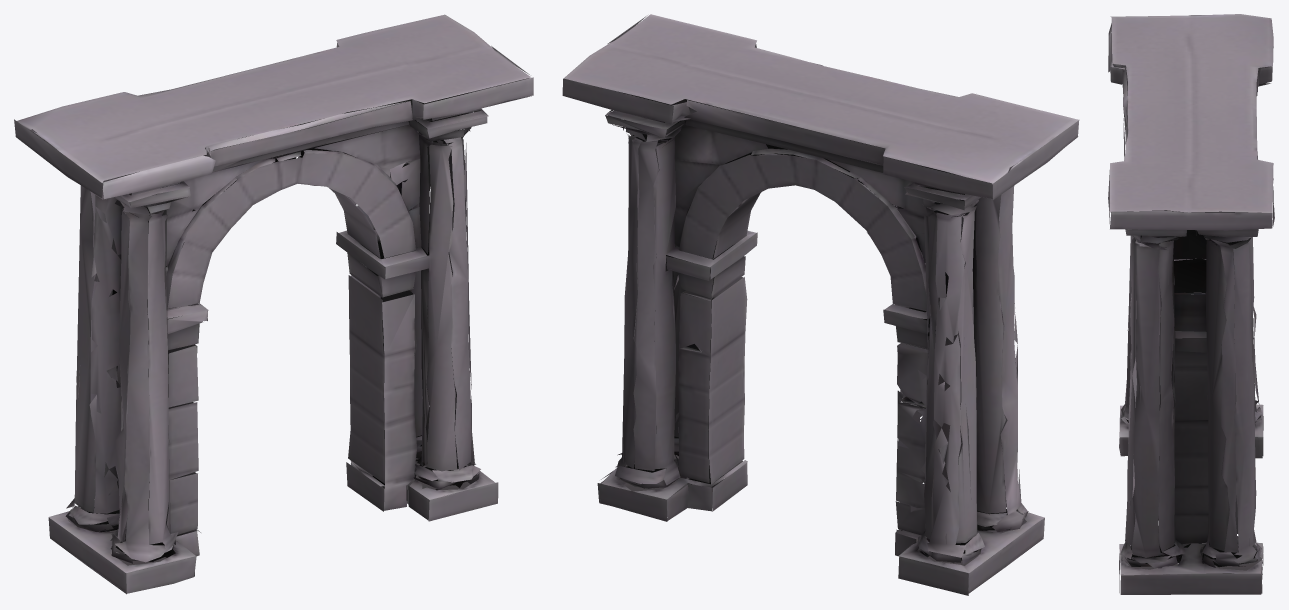
File: lan_sanctuary_arch_hero.glb
3 renders of one model, left to right at view 1: azimuth 30°, elevation 25°; view 2: azimuth 150°, elevation 25°; view 3: azimuth 270°, elevation 25°, orthographic. The views are drawn at different scales.
Visible parts, largest first — view 1: MetricPlacement; view 2: MetricPlacement; view 3: MetricPlacement.
Boxes of the visible parts, x1,y1,x2,y2 form: MetricPlacement: (14, 14, 533, 594); MetricPlacement: (562, 14, 1079, 595); MetricPlacement: (1108, 14, 1274, 594).
Size of the model in its own units: 4.24 by 4 by 1.51.
1 material, 1 textured.
